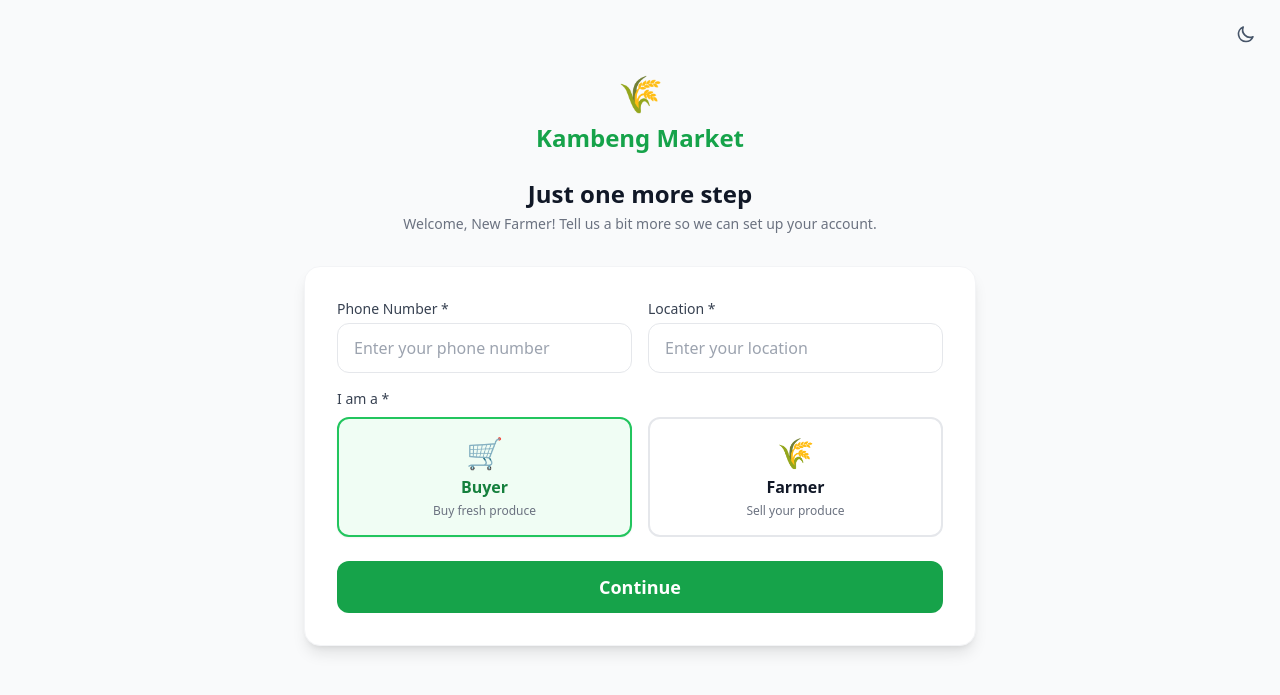
it: CompleteProfile › shows farm fields only after choosing "Farmer", and requires them before submitting
Expected: the field with placeholder "Enter your phone number" is shown, left=337, top=323, right=632, bottom=373
Expected: the field with placeholder "Enter your farm name" is not shown
Click the button "🌾 Farmer Sell your produce": (796, 477) left=648, top=417, right=943, bottom=537
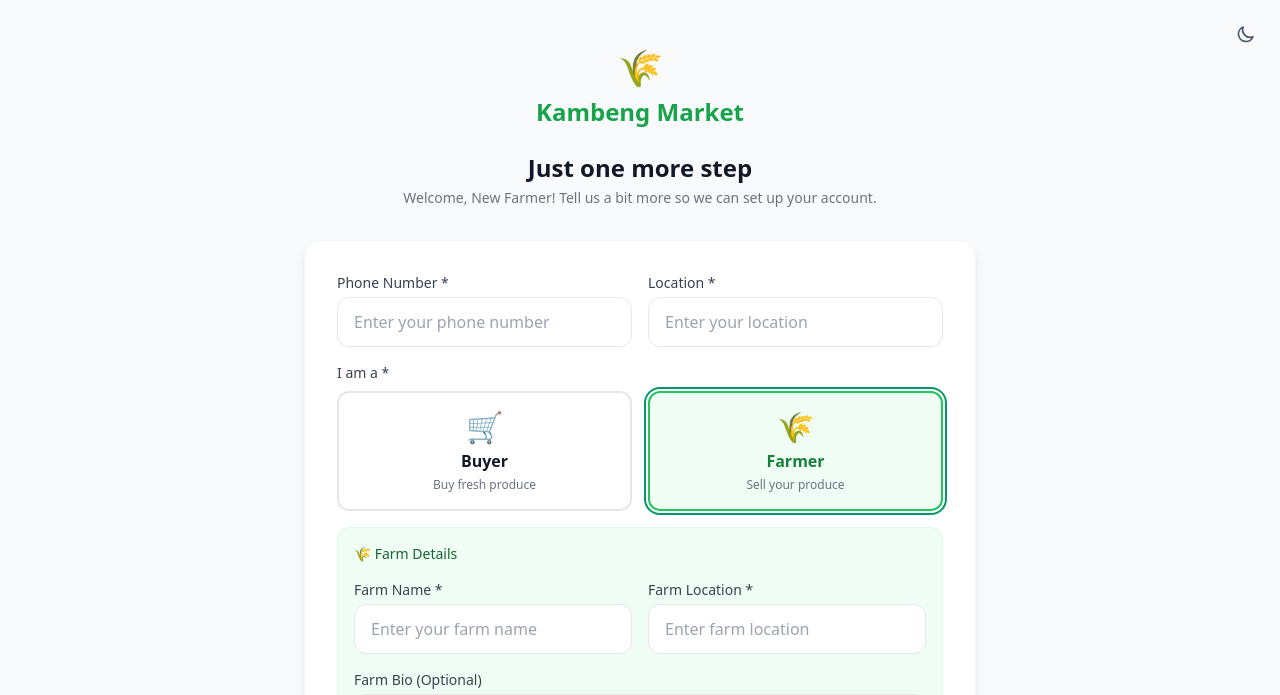
Expected: the field with placeholder "Enter your farm name" is shown, left=354, top=604, right=632, bottom=654
In the field with placeholder "Enter your phone number": (484, 322) left=337, top=297, right=632, bottom=347, type "+2207000000"
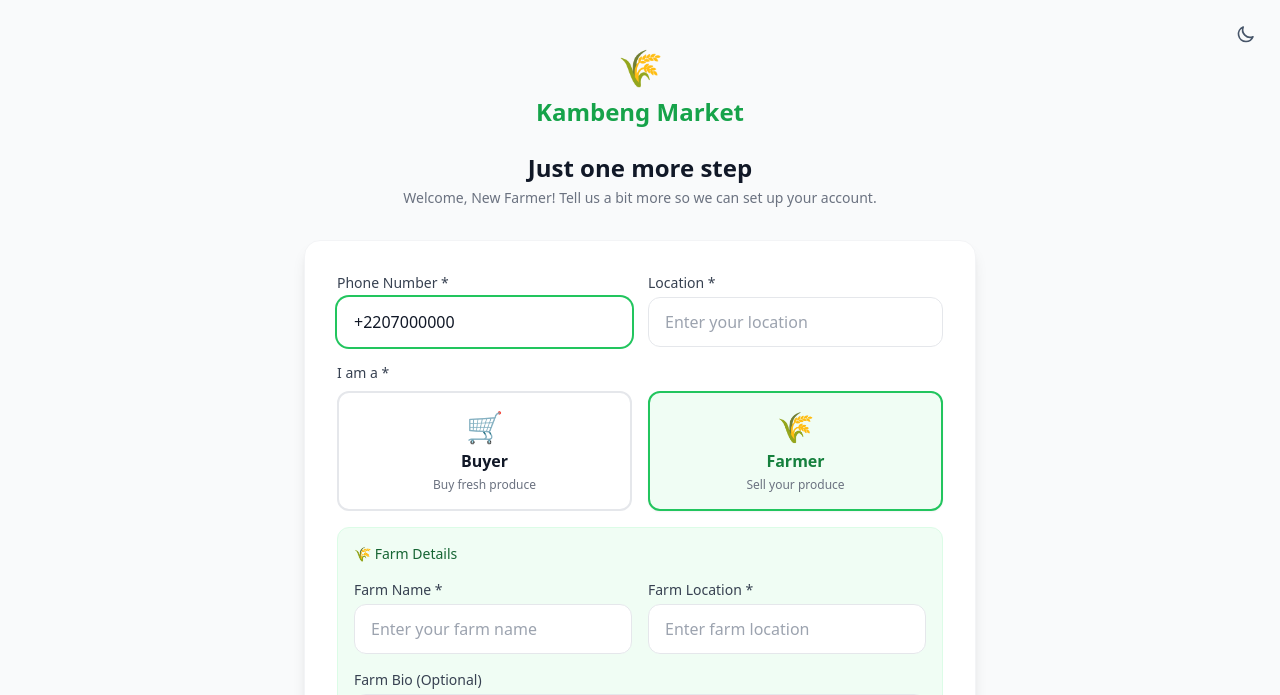
In the field with placeholder "Enter your location": (796, 322) left=648, top=297, right=943, bottom=347, type "Serrekunda"
(page scrolled)
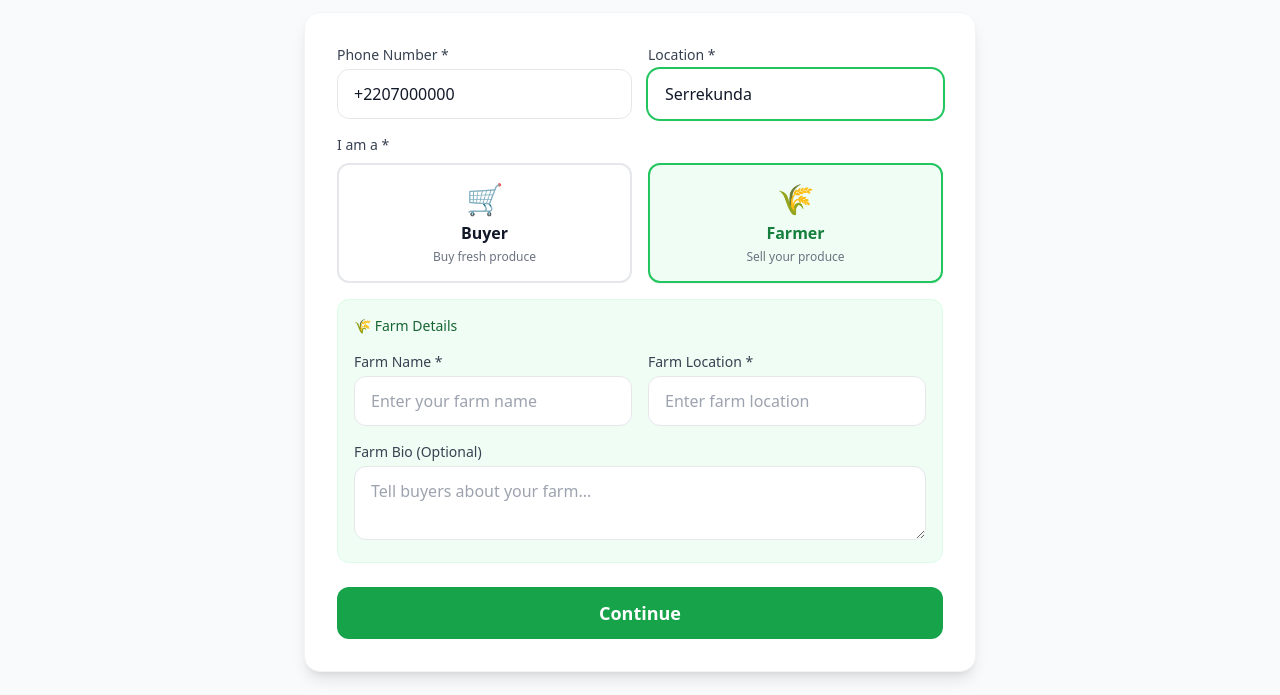
Click the button "Continue": (640, 613) left=337, top=587, right=943, bottom=639
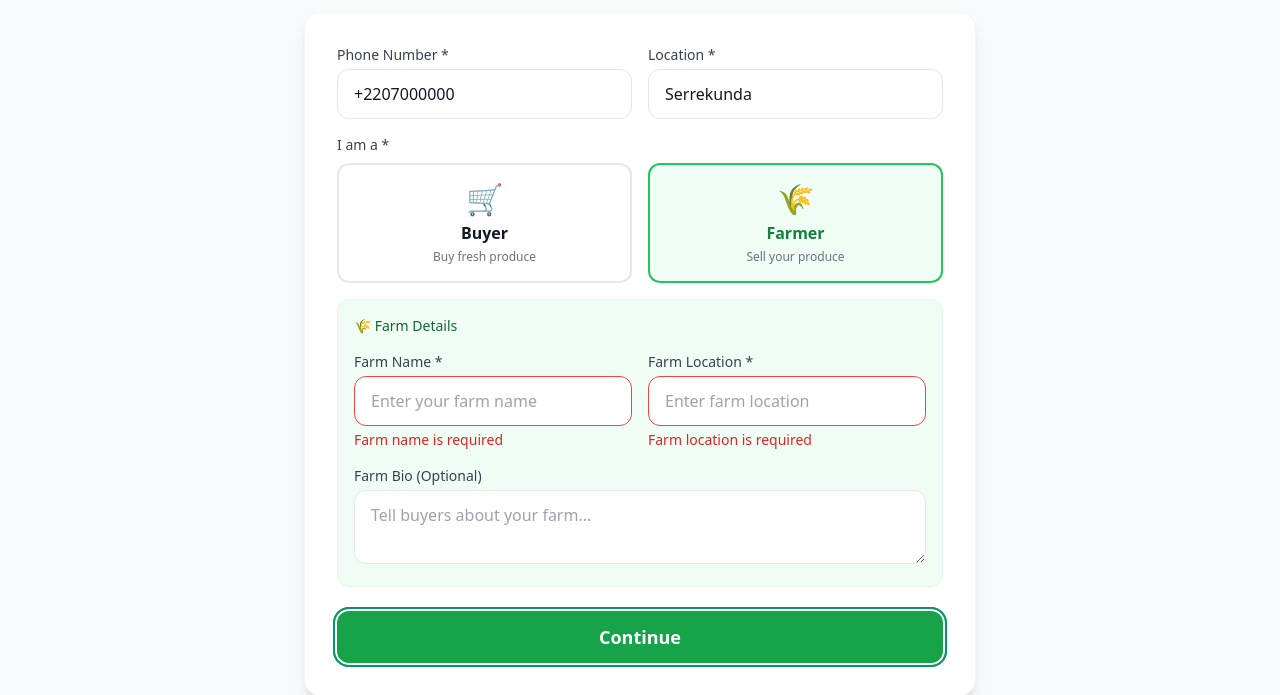
Expected: the text "Farm name is required" is shown, left=354, top=430, right=503, bottom=449
Expected: the text "Farm location is required" is shown, left=648, top=430, right=812, bottom=449
